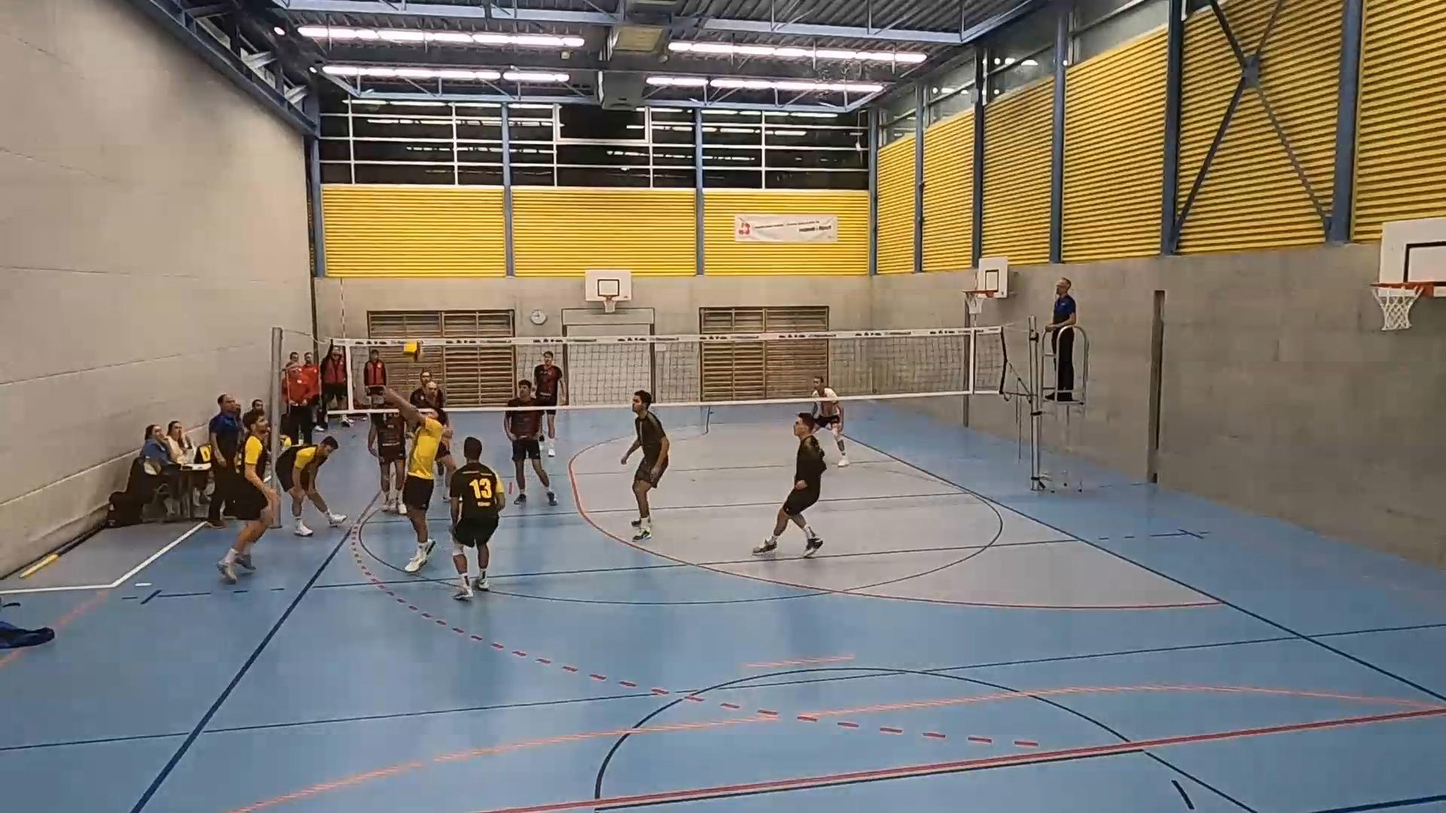alzata: (376, 385, 472, 583)
